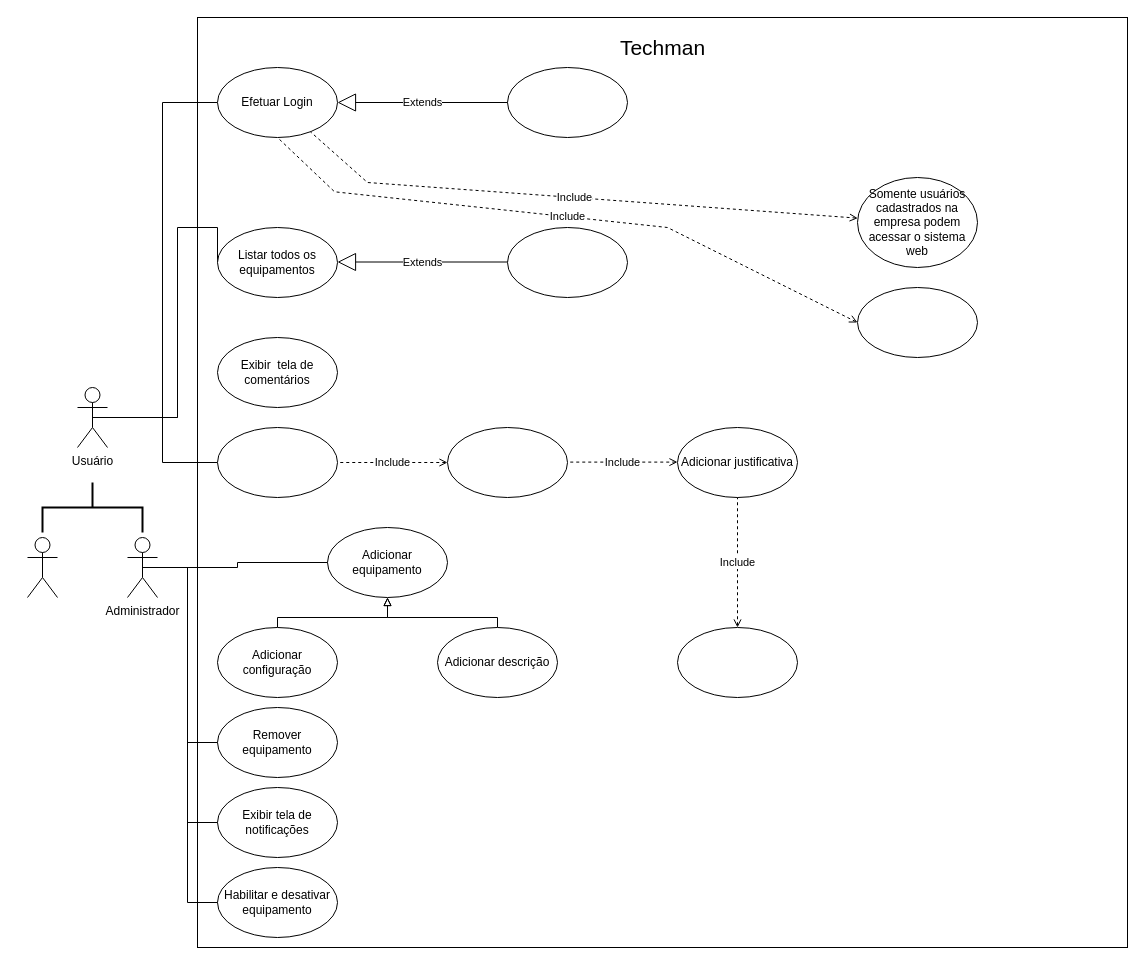
Some shapes in this 1145 by 965 pixel diagram are drawn without their labels. Here are the shapes that lost their labels. From the top down, the box of each, then its label:
(506, 66, 628, 138): Esqueci minha senha
(506, 226, 628, 298): Filtrar Listagem de equipamentos
(856, 286, 978, 358): Verificar senha
(216, 426, 338, 498): Alterar status de manutenção
(446, 426, 568, 498): Selecionar tipo de manutenção
(26, 536, 58, 598): Operador
(676, 626, 798, 698): Envio de solicitação
